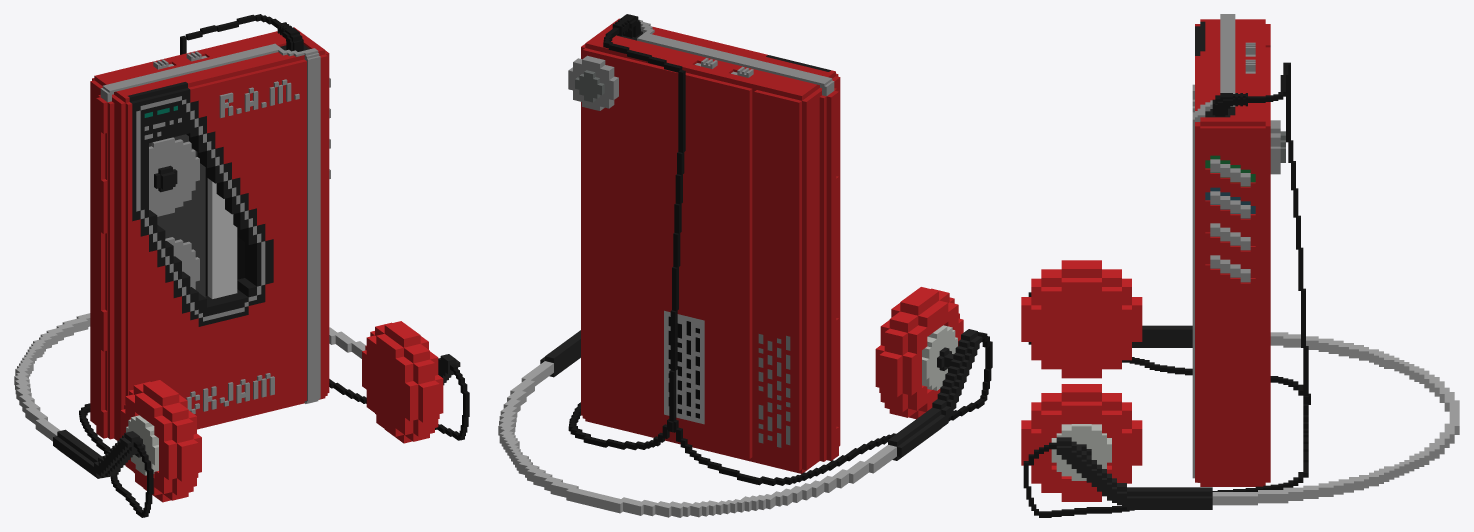
Rendered from BJ03-Red.glb.
3 renders of one model, left to right at view 1: azimuth 30°, elevation 25°; view 2: azimuth 150°, elevation 25°; view 3: azimuth 270°, elevation 25°, orthographic. The views are drawn at different scales.
Visible parts, largest first — view 1: BJ03-Red1-1, BJ03-Red1-0; view 2: BJ03-Red1-1, BJ03-Red1-0; view 3: BJ03-Red1-0, BJ03-Red1-1.
Part boxes in pixels (x1,y1,x2,y2): BJ03-Red1-1: (90,27,330,440); BJ03-Red1-0: (14,14,469,517); BJ03-Red1-1: (568,18,840,473); BJ03-Red1-0: (498,14,992,517); BJ03-Red1-0: (1021,62,1459,517); BJ03-Red1-1: (1192,14,1285,486).
Size of the model in its own units: 16 by 16.7 by 17.4.
